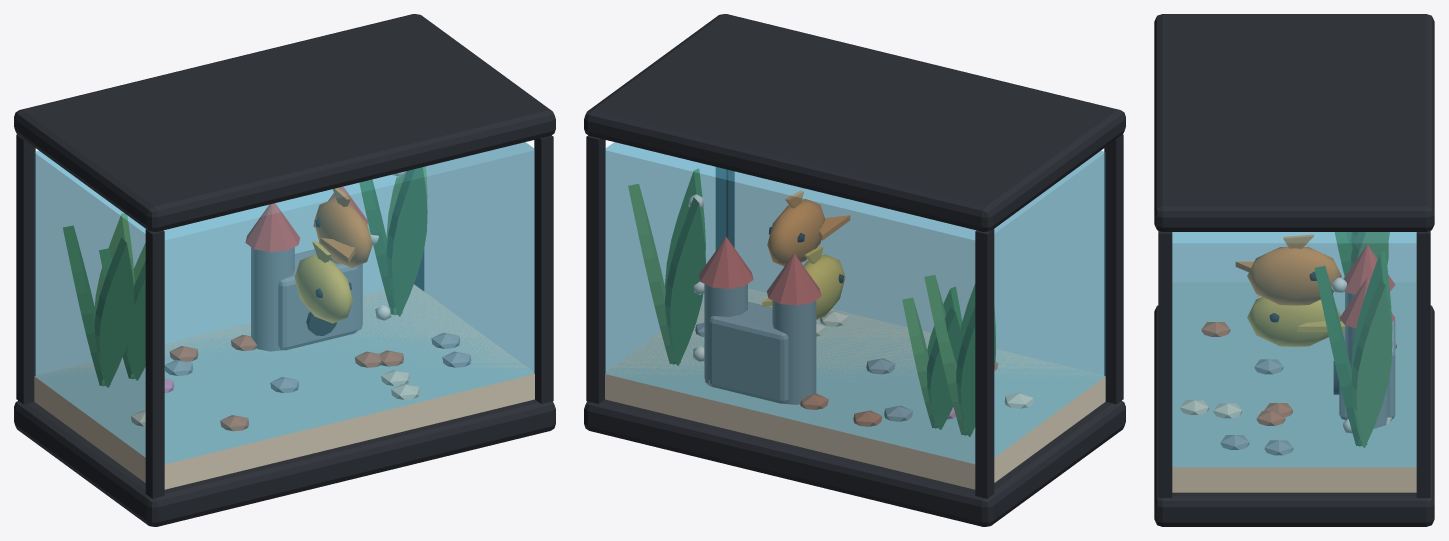
Rendered from aquario.glb.
3 renders of one model, left to right at view 1: azimuth 30°, elevation 25°; view 2: azimuth 150°, elevation 25°; view 3: azimuth 270°, elevation 25°, orthographic.
Parts seen in each view (by area): view 1: aquario, peixe2, peixe1; view 2: aquario, peixe1, peixe2; view 3: aquario, peixe1, peixe2.
Part boxes in pixels (bbox=[...]): aquario: bbox=[14, 14, 555, 526]; peixe2: bbox=[294, 241, 353, 323]; peixe1: bbox=[314, 188, 372, 267]; aquario: bbox=[584, 14, 1125, 526]; peixe1: bbox=[767, 190, 850, 266]; peixe2: bbox=[762, 246, 845, 319]; aquario: bbox=[1154, 14, 1434, 526]; peixe1: bbox=[1235, 234, 1341, 305]; peixe2: bbox=[1247, 297, 1344, 347].
Bounding box in the file's own units: 0.84 × 0.63 × 0.5.
